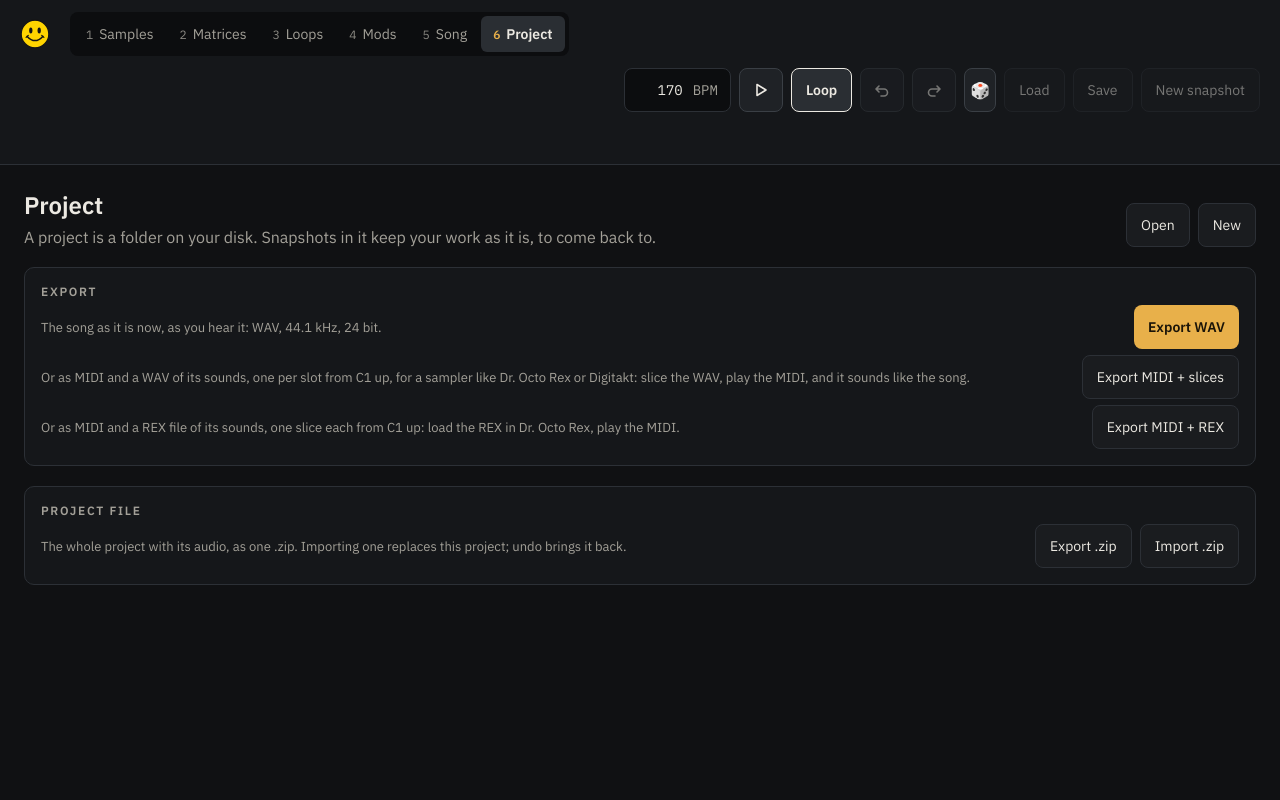
Test: export in Project › Export MIDI + slices exports the song as it is and says how many sounds; a song that does not fit says why
The width and height of the screenshot is (1280, 800).
Click the button "Export MIDI + slices".
click(1160, 377)  # box [1082,355,1239,399]
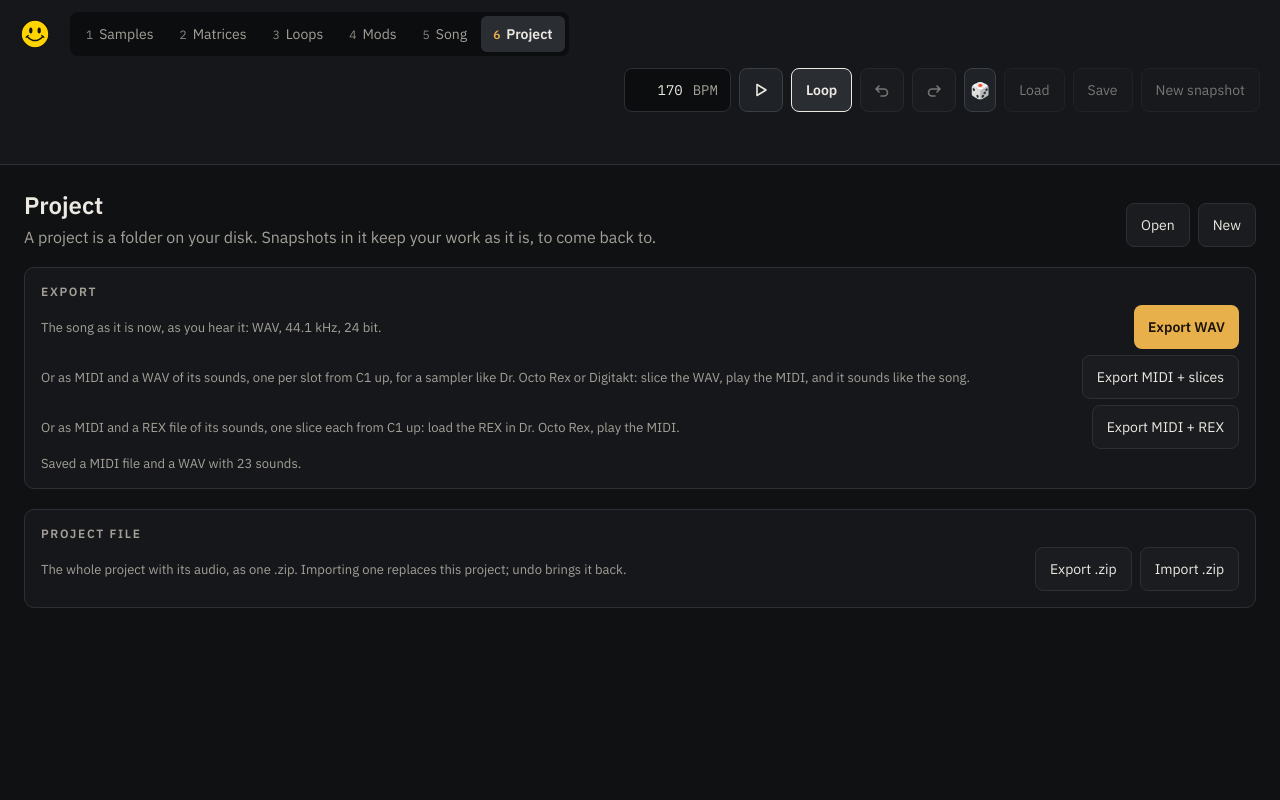
Check: the message reads "Saved a MIDI file and a WAV with 23 sounds.", box [41,455,301,472]
Click the button "Export MIDI + slices".
click(1160, 377)  # box [1082,355,1239,399]
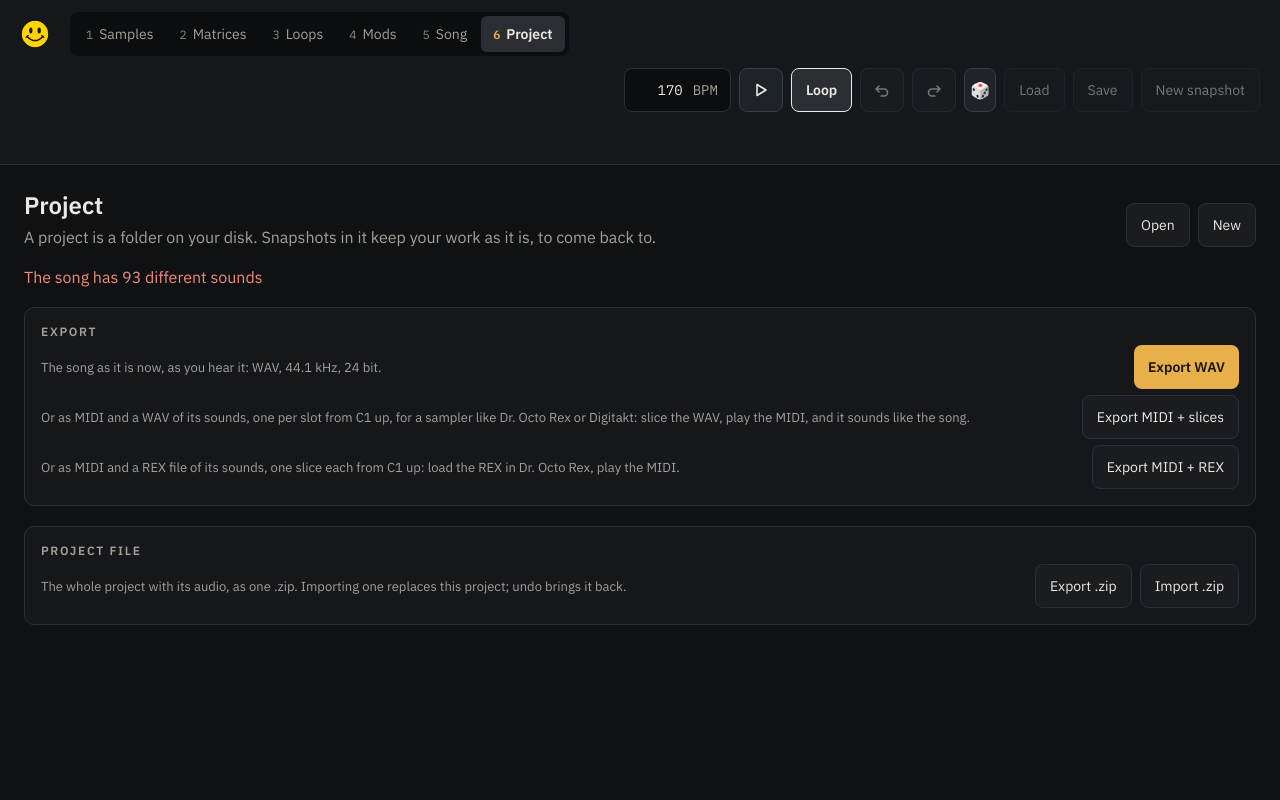
Check: the message shows "93 different sounds", box [24,267,262,287]
